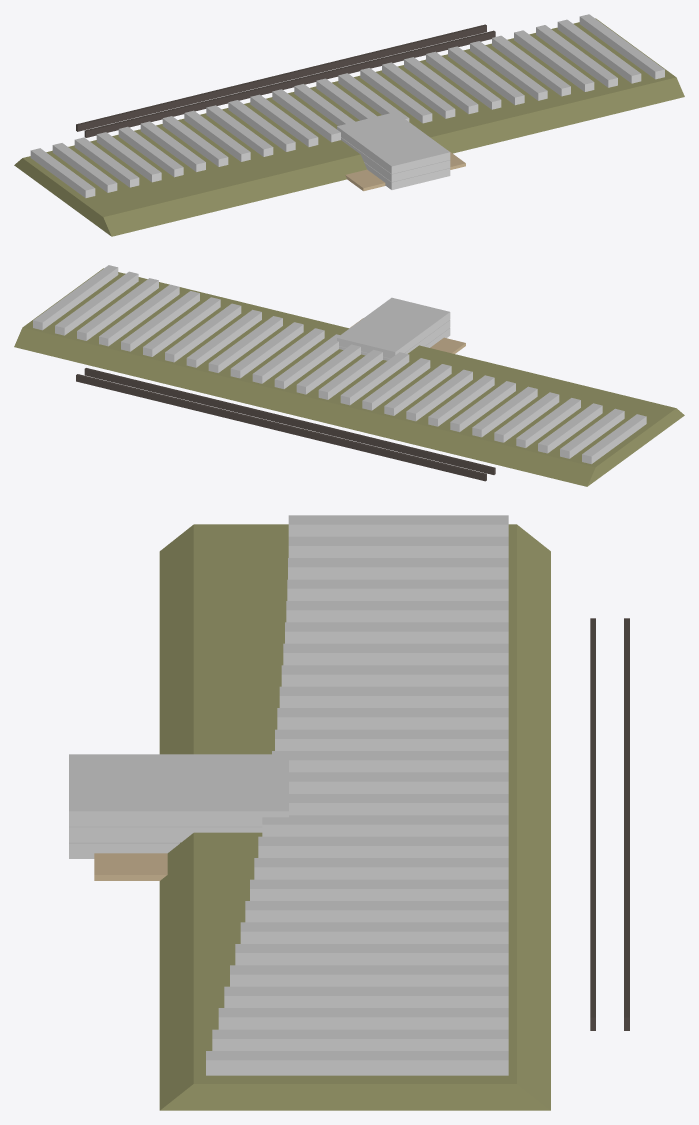
The model's file is SM_Via_DesvioDer_v3_Obra_LOD0.fbx.
3 renders of one model, top to bottom at view 1: azimuth 30°, elevation 25°; view 2: azimuth 150°, elevation 25°; view 3: azimuth 270°, elevation 25°, orthographic. The views are drawn at different scales.
Visible parts, largest first — view 1: SM_via_trazado_v33_LOD0; view 2: SM_via_trazado_v33_LOD0; view 3: SM_via_trazado_v33_LOD0.
Boxes of the visible parts, left/top/right/bottom form: SM_via_trazado_v33_LOD0: left=14, top=14, right=684, bottom=236; SM_via_trazado_v33_LOD0: left=14, top=265, right=684, bottom=486; SM_via_trazado_v33_LOD0: left=69, top=515, right=629, bottom=1110.
Size of the model in its own units: 15.66 by 0.63 by 6.64.
